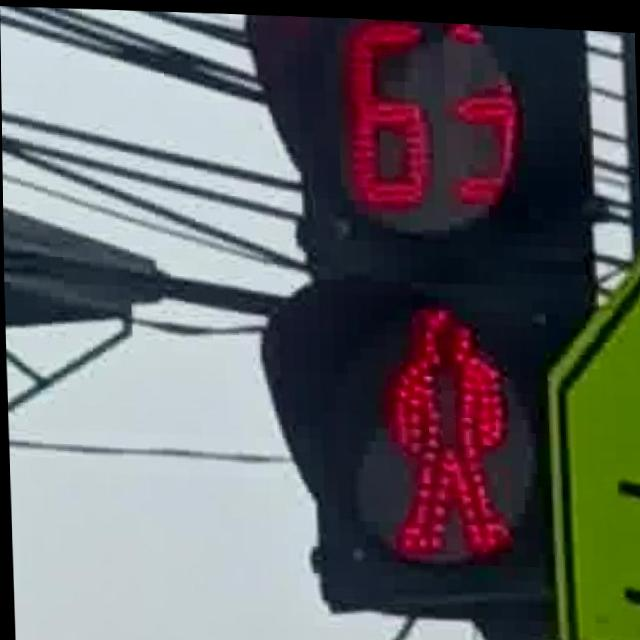red_light: (362, 282, 527, 574)
